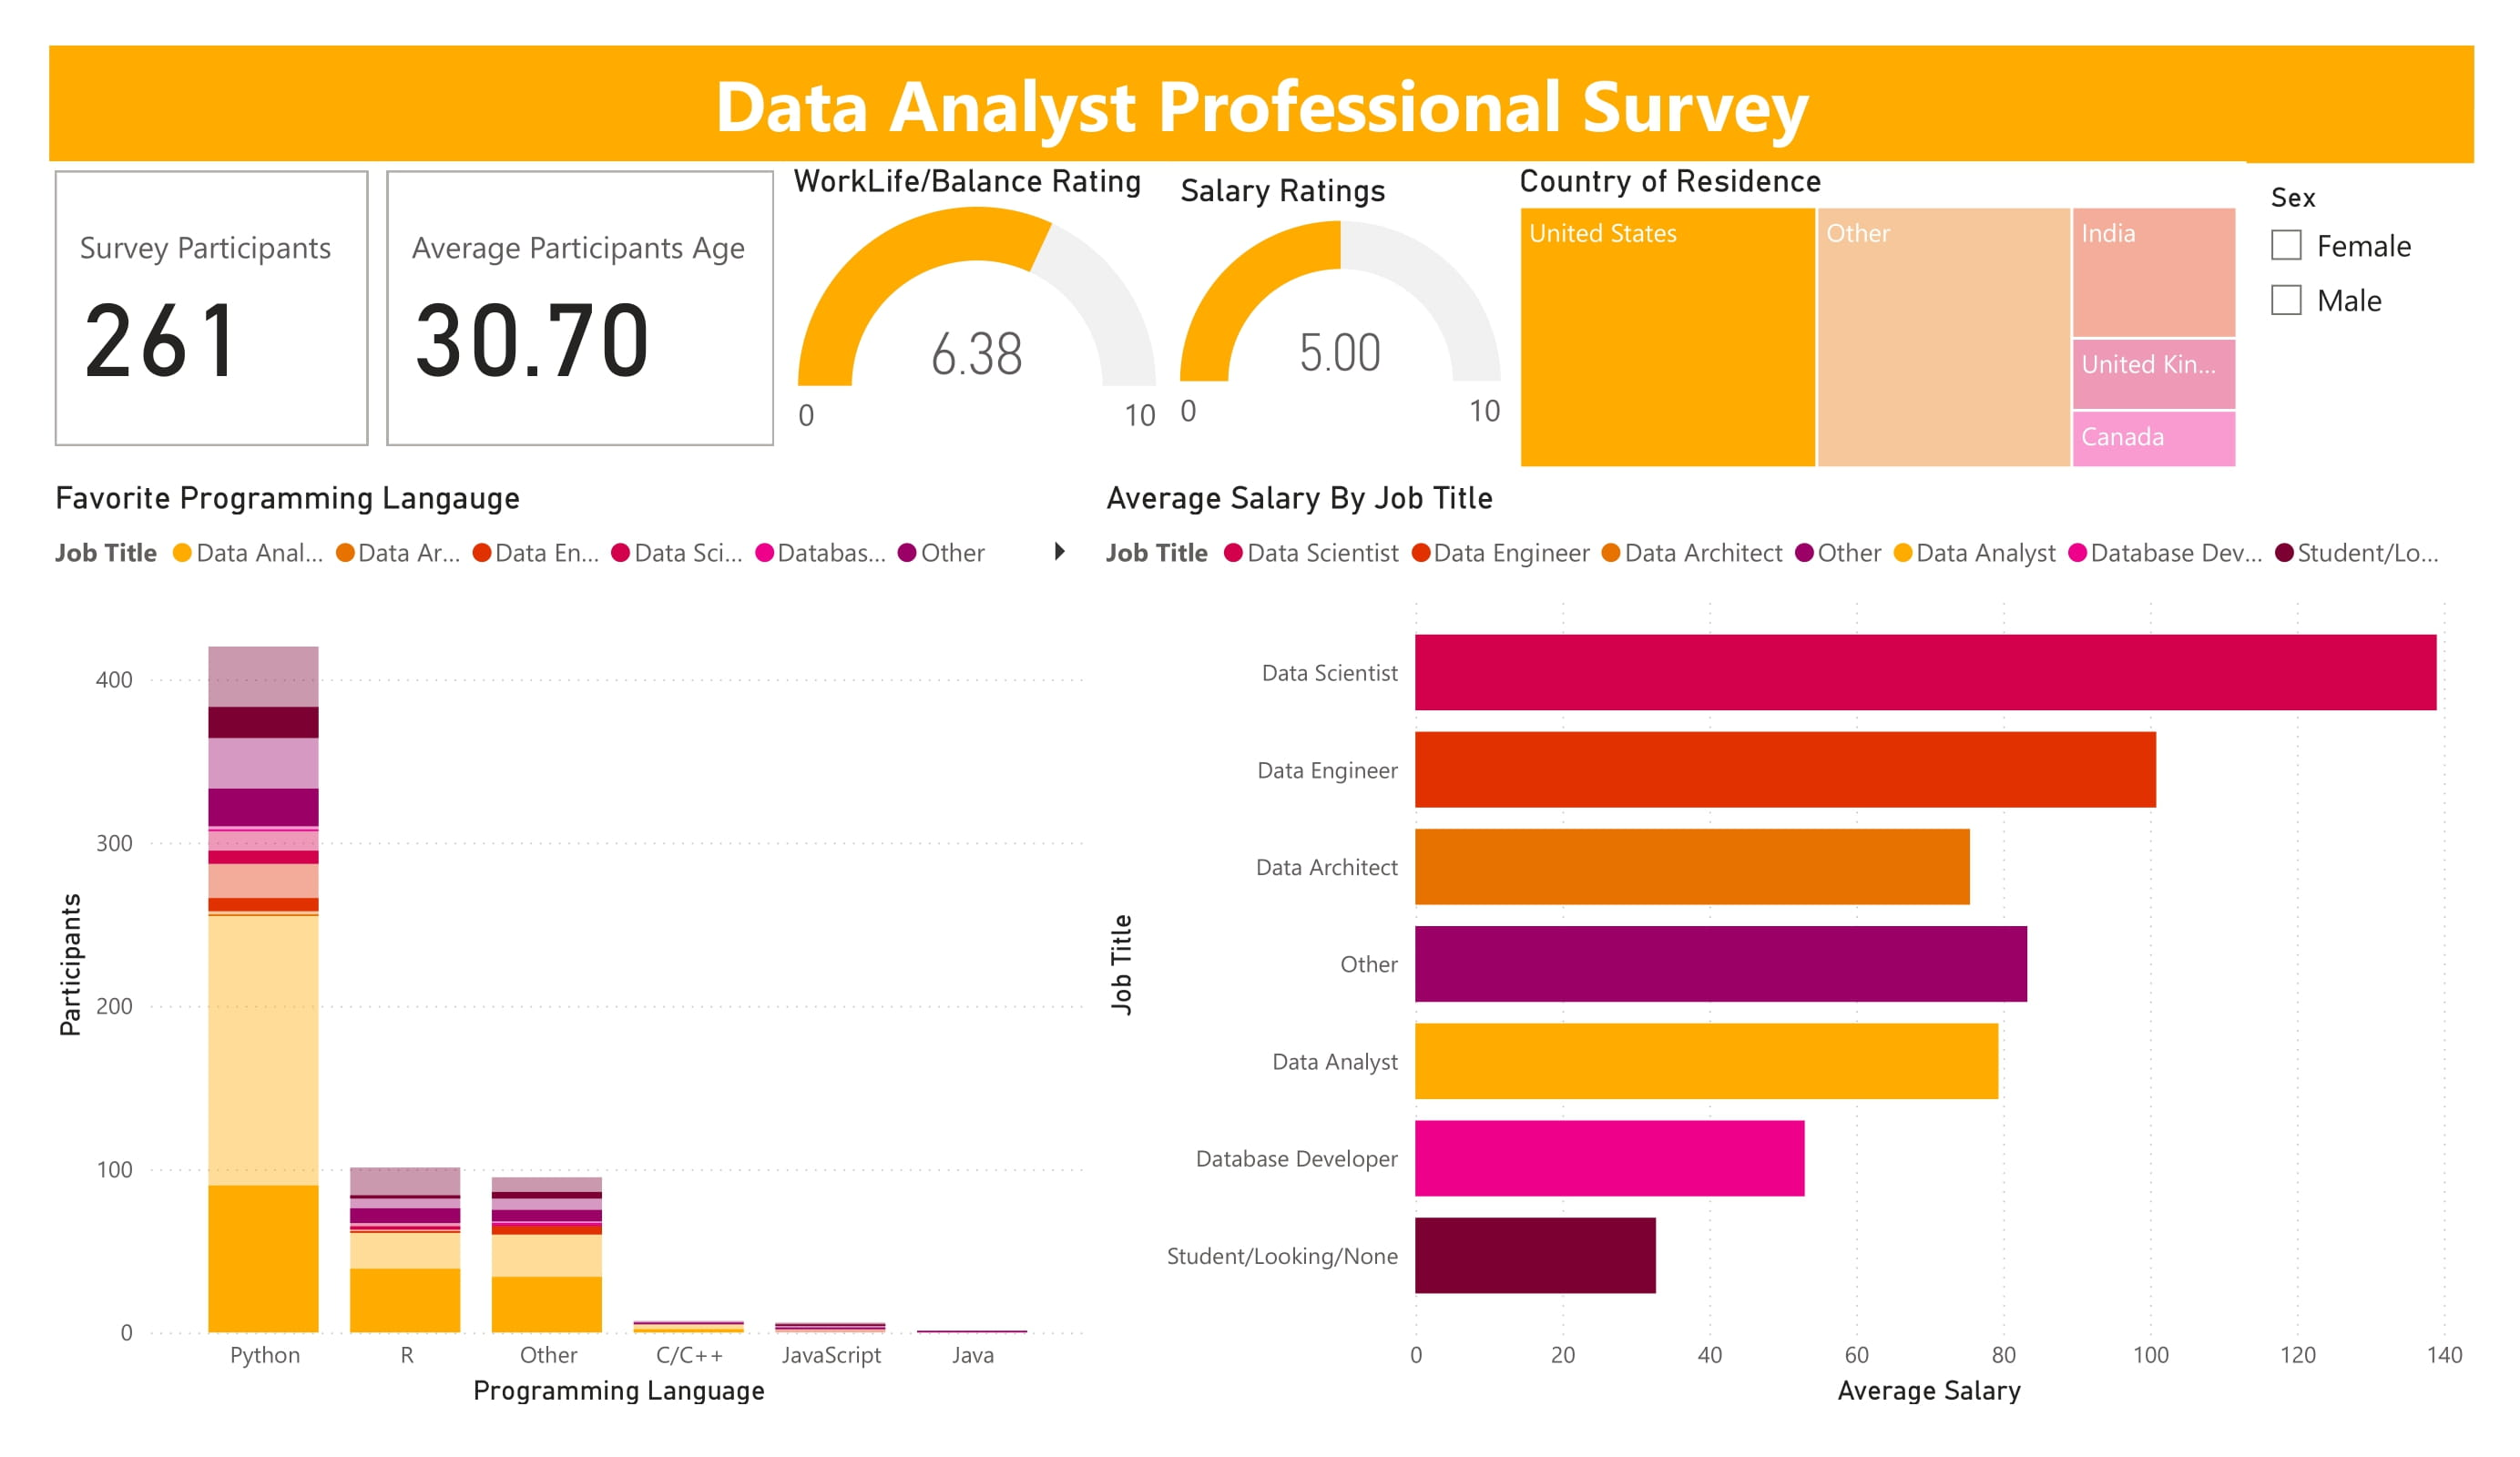

The dashboard page shown, as its layout file describes it:
{"tool":"powerbi","page":{"name":"Page 1","canvas":[1280,720],"ordinal":0},"visuals":[{"type":"textbox","box":[1.7,0,1278.3,61.7],"z":0},{"type":"cardVisual","fields":{"Data":["CountNonNull(Data Professional Survey.Unique ID)"]},"box":[0,61.4,175.4,154.9],"z":1000},{"type":"cardVisual","fields":{"Data":["Avg(Data Professional Survey.Q10 - Current Age)"]},"box":[175.4,61.4,213.4,154.9],"z":2000},{"type":"barChart","title":"Average Salary By Job Title","fields":{"Category":["Data Professional Survey.Job Title"],"Y":["Avg(Data Professional Survey.Average Salary)"],"Series":["Data Professional Survey.Job Title"]},"box":[553.9,228,724.9,492.5],"z":3000},{"type":"columnChart","title":"Favorite Programming Langauge","fields":{"Category":["Data Professional Survey.Q5 - Favorite Programming Language.1"],"Y":["CountNonNull(Data Professional Survey.Unique ID)"],"Series":["Data Professional Survey.Job Title"]},"box":[0,228,553.9,492.5],"z":4000},{"type":"treemap","title":"Country of Residence","fields":{"Group":["Data Professional Survey.Country"],"Values":["CountNonNull(Data Professional Survey.Unique ID)"]},"box":[771.7,61.4,388.7,166.6],"z":5000},{"type":"gauge","title":"WorkLife/Balance Rating","fields":{"Y":["Avg(Data Professional Survey.Q6 - How Happy are you in your Current Position with the following? (Work/Life Balance))"],"MinValue":["Min(Data Professional Survey.Q6 - How Happy are you in your Current Position with the following? (Work/Life Balance))"],"MaxValue":["Max(Data Professional Survey.Q6 - How Happy are you in your Current Position with the following? (Work/Life Balance))"]},"box":[388.7,61.4,204.6,154.9],"z":6000},{"type":"gauge","title":"Salary Ratings","fields":{"Y":["Avg(Data Professional Survey.Q6 - How Happy are you in your Current Position with the following? (Salary))"],"MinValue":["Min(Data Professional Survey.Q6 - How Happy are you in your Current Position with the following? (Salary))1"],"MaxValue":["Max(Data Professional Survey.Q6 - How Happy are you in your Current Position with the following? (Salary))2"]},"box":[593.4,61.4,178.3,154.9],"z":7000},{"type":"slicer","title":"Average Salary by Sex","fields":{"Values":["Data Professional Survey.Sex"]},"box":[1160.4,67.2,119.8,154.9],"z":7001}]}

Visuals, with their boxes in screenshot pixels (x1, y1, x2, y2):
textbox: rect(49, 46, 2474, 163)
cardVisual - CountNonNull(Data Professional Survey.Unique ID): rect(46, 162, 378, 456)
cardVisual - Avg(Data Professional Survey.Q10 - Current Age): rect(378, 162, 783, 456)
"Average Salary By Job Title" barChart: rect(1097, 478, 2472, 1411)
"Favorite Programming Langauge" columnChart: rect(46, 478, 1097, 1411)
"Country of Residence" treemap: rect(1510, 162, 2248, 478)
"WorkLife/Balance Rating" gauge: rect(783, 162, 1171, 456)
"Salary Ratings" gauge: rect(1171, 162, 1510, 456)
"Average Salary by Sex" slicer: rect(2248, 173, 2474, 467)
